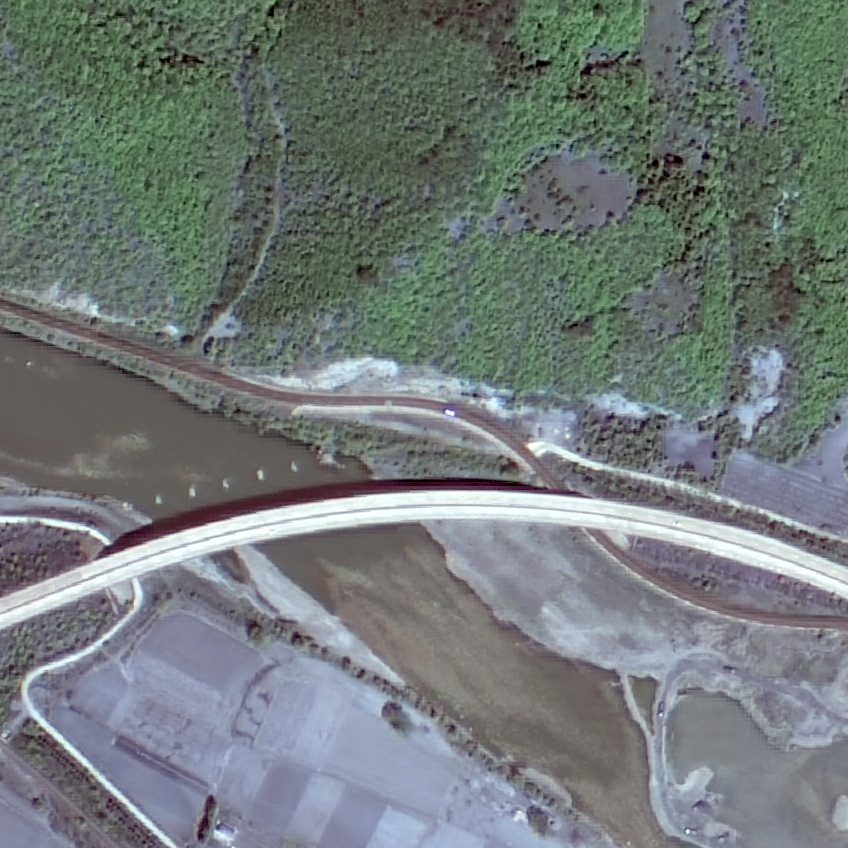slope: (250, 354, 656, 452), (722, 337, 788, 442)
